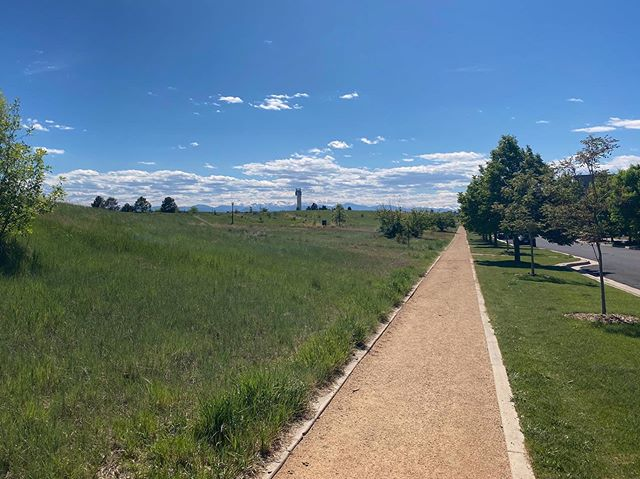grass: (1, 214, 433, 479)
sky: (1, 1, 640, 168)
tree: (555, 149, 640, 352), (451, 137, 535, 264), (496, 156, 578, 278)
